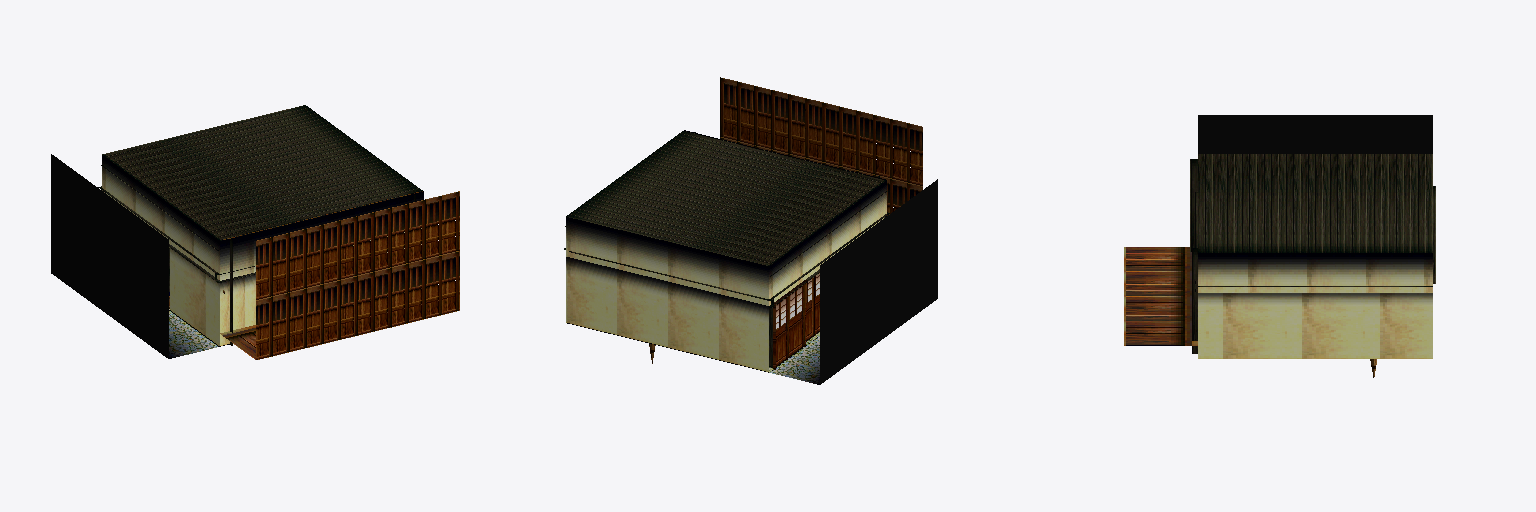
3 renders of one model, left to right at view 1: azimuth 30°, elevation 25°; view 2: azimuth 150°, elevation 25°; view 3: azimuth 270°, elevation 25°, orthographic.
Parts seen in each view (by area): view 1: Shape_IndexedFaceSet.003, Shape_IndexedFaceSet.012, Shape_IndexedFaceSet.043, Shape_IndexedFaceSet.028, Shape_IndexedFaceSet.029, Shape_IndexedFaceSet.027, Shape_IndexedFaceSet.039, Shape_IndexedFaceSet.017, Shape_IndexedFaceSet.011; view 2: Shape_IndexedFaceSet.028, Shape_IndexedFaceSet.012, Shape_IndexedFaceSet.043, Shape_IndexedFaceSet.003, Shape_IndexedFaceSet.044, Shape_IndexedFaceSet.039, Shape_IndexedFaceSet.006, Shape_IndexedFaceSet.011; view 3: Shape_IndexedFaceSet.028, Shape_IndexedFaceSet.012, Shape_IndexedFaceSet.043, Shape_IndexedFaceSet.017, Shape_IndexedFaceSet.011.
Boxes of the visible parts, <box> form: Shape_IndexedFaceSet.003: <box>256,191,459,359</box>; Shape_IndexedFaceSet.012: <box>102,105,422,239</box>; Shape_IndexedFaceSet.043: <box>51,154,168,358</box>; Shape_IndexedFaceSet.028: <box>102,155,421,346</box>; Shape_IndexedFaceSet.029: <box>220,191,423,280</box>; Shape_IndexedFaceSet.027: <box>220,244,421,346</box>; Shape_IndexedFaceSet.039: <box>169,310,218,358</box>; Shape_IndexedFaceSet.017: <box>220,288,438,359</box>; Shape_IndexedFaceSet.011: <box>98,165,420,345</box>; Shape_IndexedFaceSet.028: <box>566,180,886,372</box>; Shape_IndexedFaceSet.012: <box>566,131,885,265</box>; Shape_IndexedFaceSet.043: <box>820,179,937,384</box>; Shape_IndexedFaceSet.003: <box>720,77,922,215</box>; Shape_IndexedFaceSet.044: <box>773,279,807,369</box>; Shape_IndexedFaceSet.039: <box>770,336,819,384</box>; Shape_IndexedFaceSet.006: <box>806,273,819,341</box>; Shape_IndexedFaceSet.011: <box>564,132,887,367</box>; Shape_IndexedFaceSet.028: <box>1198,253,1432,358</box>; Shape_IndexedFaceSet.012: <box>1198,154,1432,252</box>; Shape_IndexedFaceSet.043: <box>1198,115,1432,153</box>; Shape_IndexedFaceSet.017: <box>1124,247,1197,345</box>; Shape_IndexedFaceSet.011: <box>1190,159,1435,353</box>.
Bounding box in the file's own units: 8.08 × 5.48 × 8.48.
50 materials, 31 textured.